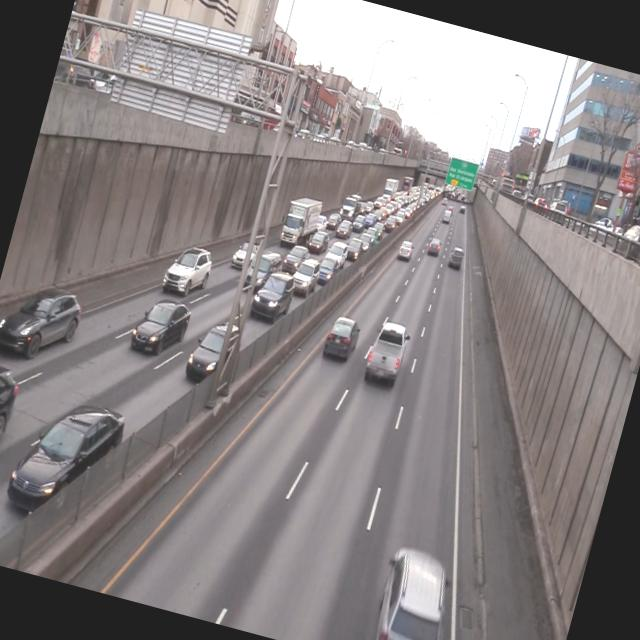Vehicle: (2, 386, 128, 528), (360, 543, 457, 640), (0, 274, 87, 372), (182, 313, 242, 393), (127, 292, 193, 364), (360, 315, 415, 392), (160, 238, 216, 304), (318, 310, 366, 370), (249, 268, 298, 326), (276, 193, 322, 252), (242, 247, 282, 296), (288, 255, 322, 303), (228, 233, 264, 275), (281, 242, 311, 276), (315, 255, 340, 288), (306, 228, 331, 258), (324, 240, 349, 269), (395, 237, 417, 266), (445, 245, 465, 272), (256, 326, 278, 347), (426, 235, 443, 259)
